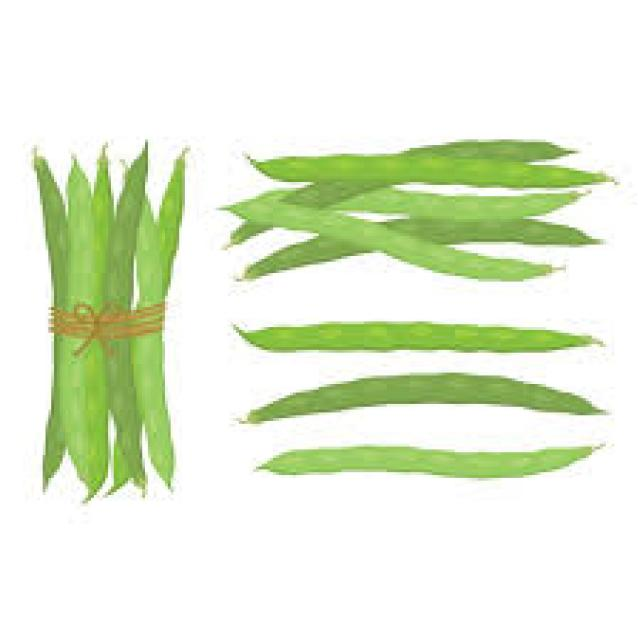Beans: (7, 81, 202, 518), (215, 304, 640, 494), (212, 105, 631, 293)
